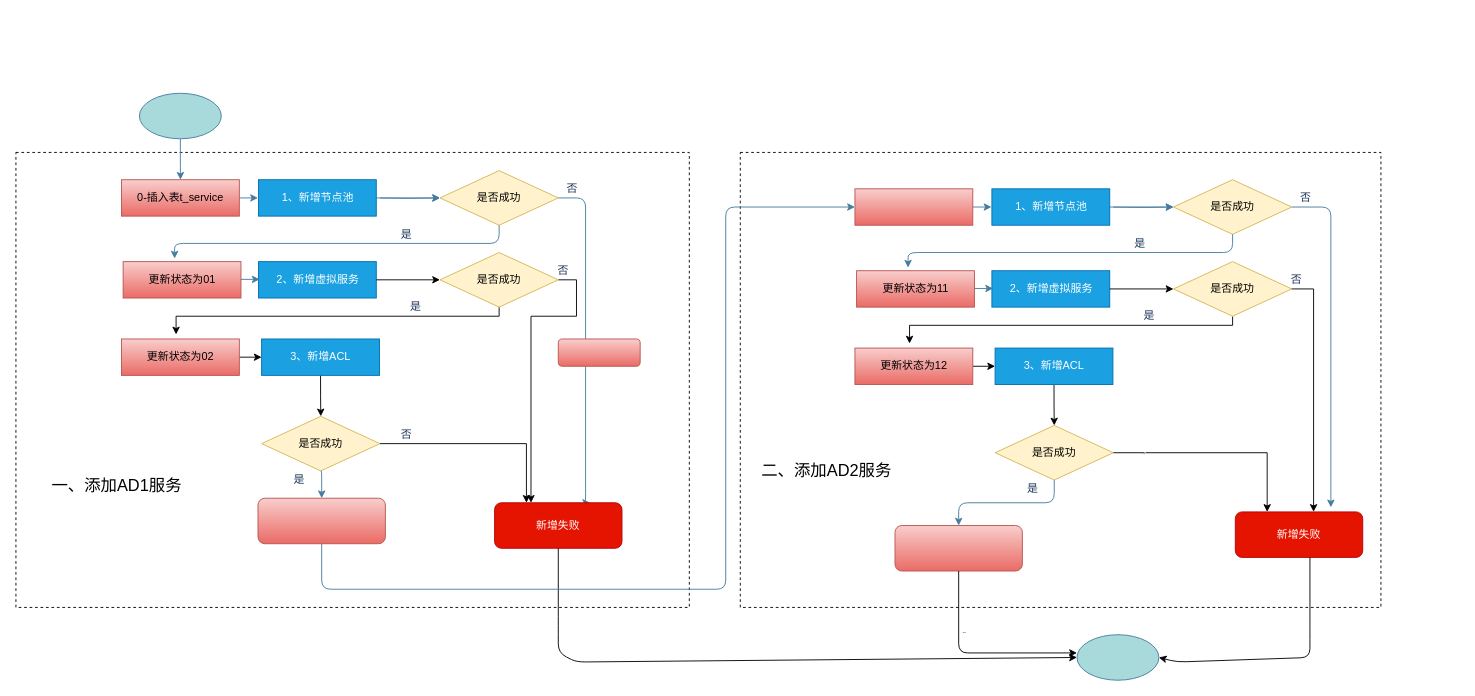
The diagram is 1475 pixels wide and 696 high, and some of its shapes have lost their labels. The box of each missing label's shape, as (x1, y1, x2, y2) in pixels:
删除表中记录: (557, 338, 640, 366)
开始: (139, 92, 221, 139)
更新状态为10: (854, 188, 973, 225)
更新表状态为03: (257, 497, 385, 544)
更新表状态为13 新增成功: (894, 525, 1022, 571)
结束: (1076, 634, 1159, 680)
